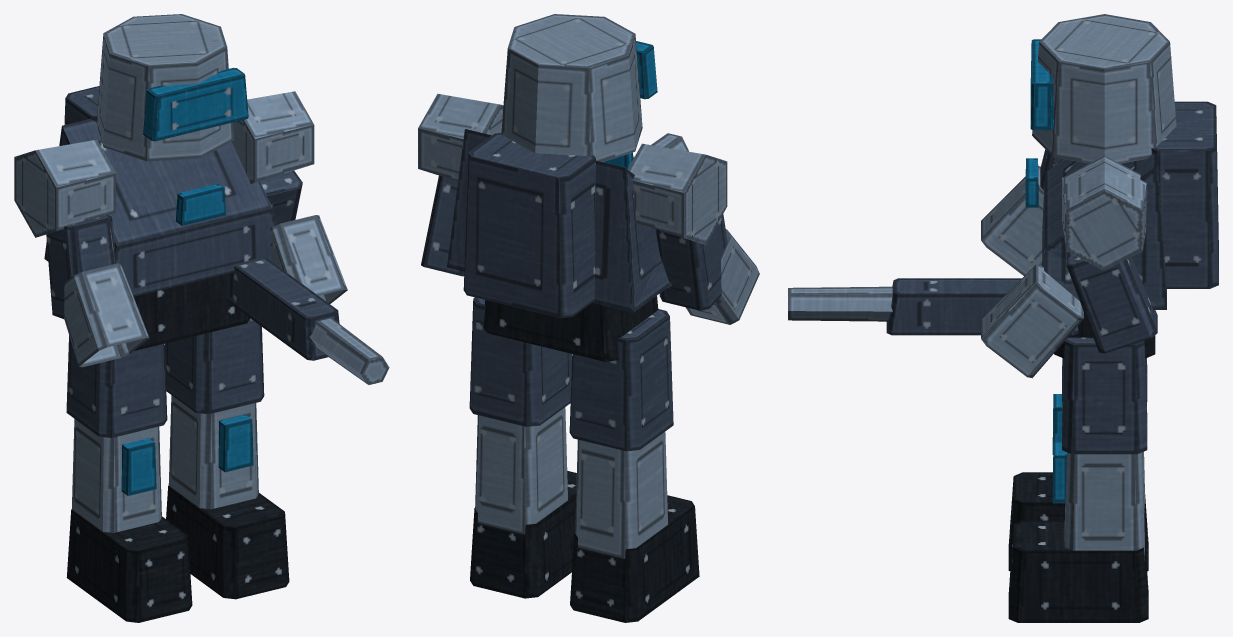
File: unit-heavy_infantry.fbx
The picture shows the model from 3 angles, left to right: view 1: azimuth 30°, elevation 25°; view 2: azimuth 150°, elevation 25°; view 3: azimuth 270°, elevation 25°; orthographic projection. The views are drawn at different scales.
Parts seen in each view (by area): view 1: unit-heavy_infantry; view 2: unit-heavy_infantry; view 3: unit-heavy_infantry.
Part boxes in pixels (x1,y1,x2,y2): unit-heavy_infantry: (14,14,389,622); unit-heavy_infantry: (418,14,759,622); unit-heavy_infantry: (788,14,1218,622).
Size of the model in its own units: 118 by 230 by 166.
Materials: 1 (1 with a texture image).
